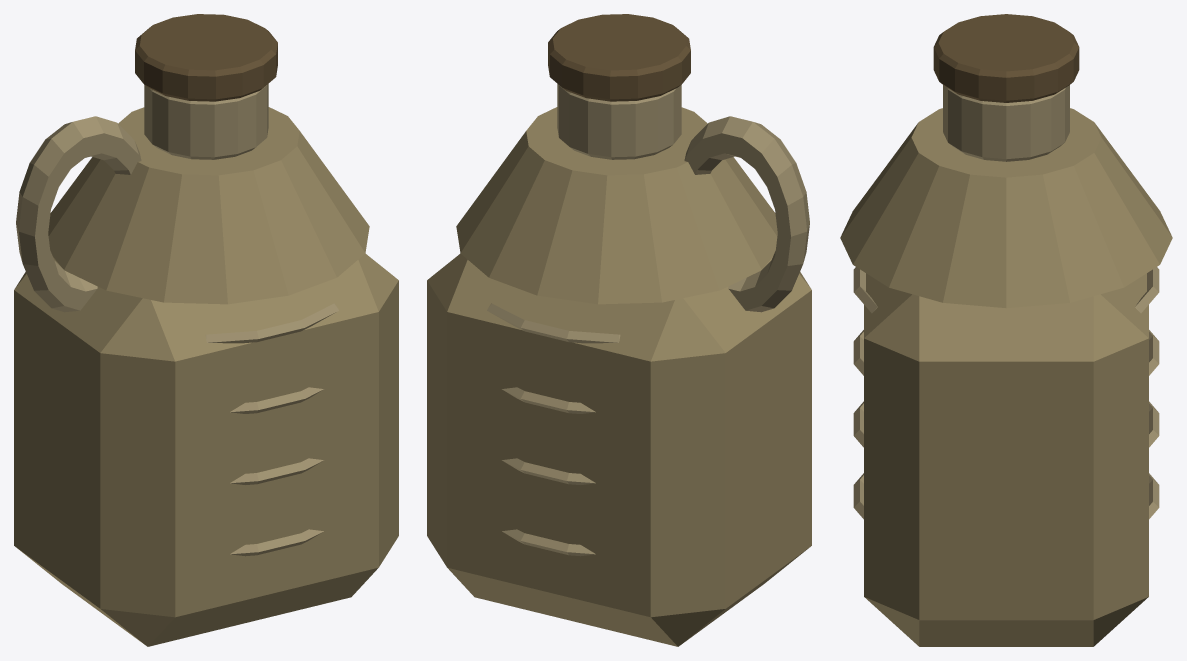
File: item_dirty_water.glb
The picture shows the model from 3 angles, left to right: view 1: azimuth 30°, elevation 25°; view 2: azimuth 150°, elevation 25°; view 3: azimuth 270°, elevation 25°; orthographic projection.
Visible parts, largest first — view 1: item_dirty_water; view 2: item_dirty_water; view 3: item_dirty_water.
Boxes of the visible parts, x1,y1,x2,y2 form: item_dirty_water: [14, 14, 398, 646]; item_dirty_water: [427, 14, 811, 646]; item_dirty_water: [840, 14, 1172, 646].
Bounding box in the file's own units: 0.2483 × 0.386 × 0.21.
